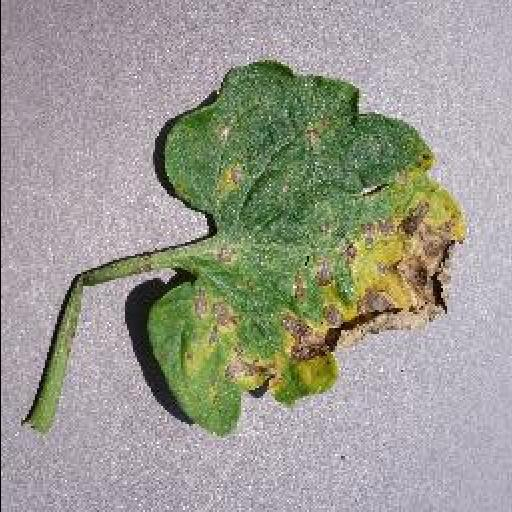disease_tomato: (144, 62, 470, 436)
